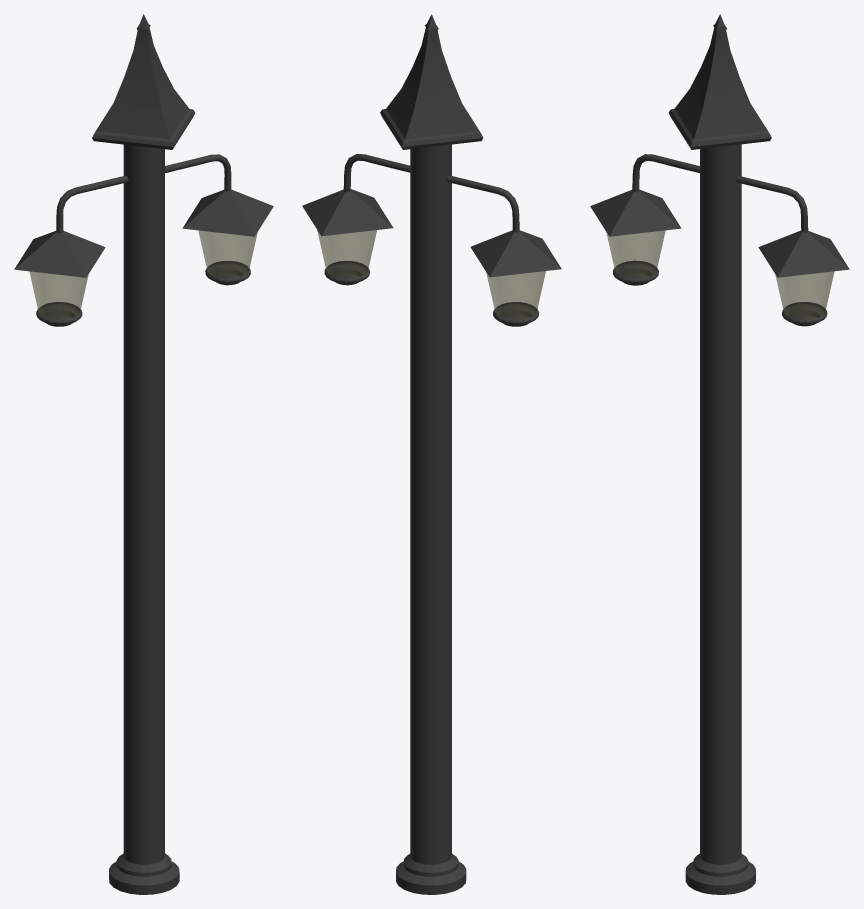
File: Lamp_Post.fbx
3 views of the same model, side by side, from view 1: azimuth 30°, elevation 25°; view 2: azimuth 150°, elevation 25°; view 3: azimuth 330°, elevation 25° (orthographic).
Visible parts, largest first — view 1: Pole, Cap, Lamp_Cap1, Lamp_Cap, Glass_Case, Glass_Case1, Arm1, Arm; view 2: Pole, Cap, Lamp_Cap, Lamp_Cap1, Glass_Case, Glass_Case1, Arm1, Arm; view 3: Pole, Cap, Lamp_Cap1, Lamp_Cap, Glass_Case, Glass_Case1, Arm, Arm1.
Boxes of the visible parts, left/top/right/bottom form: Pole: left=109, top=144, right=179, bottom=894; Cap: left=92, top=14, right=194, bottom=149; Lamp_Cap1: left=182, top=189, right=273, bottom=236; Lamp_Cap: left=14, top=230, right=105, bottom=277; Glass_Case: left=29, top=271, right=88, bottom=326; Glass_Case1: left=198, top=230, right=257, bottom=285; Arm1: left=56, top=175, right=128, bottom=233; Arm: left=165, top=154, right=231, bottom=191; Pole: left=396, top=144, right=466, bottom=894; Cap: left=380, top=14, right=483, bottom=149; Lamp_Cap: left=470, top=230, right=561, bottom=277; Lamp_Cap1: left=302, top=189, right=393, bottom=236; Glass_Case: left=486, top=271, right=545, bottom=326; Glass_Case1: left=317, top=230, right=376, bottom=285; Arm1: left=447, top=175, right=519, bottom=232; Arm: left=343, top=154, right=410, bottom=192; Pole: left=685, top=144, right=755, bottom=894; Cap: left=668, top=14, right=771, bottom=149; Lamp_Cap1: left=758, top=230, right=849, bottom=277; Lamp_Cap: left=590, top=189, right=681, bottom=236; Glass_Case: left=606, top=230, right=665, bottom=285; Glass_Case1: left=775, top=271, right=834, bottom=326; Arm: left=736, top=176, right=808, bottom=232; Arm1: left=632, top=154, right=699, bottom=192.
Size of the model in its own units: 5.67 by 18.07 by 2.26.
